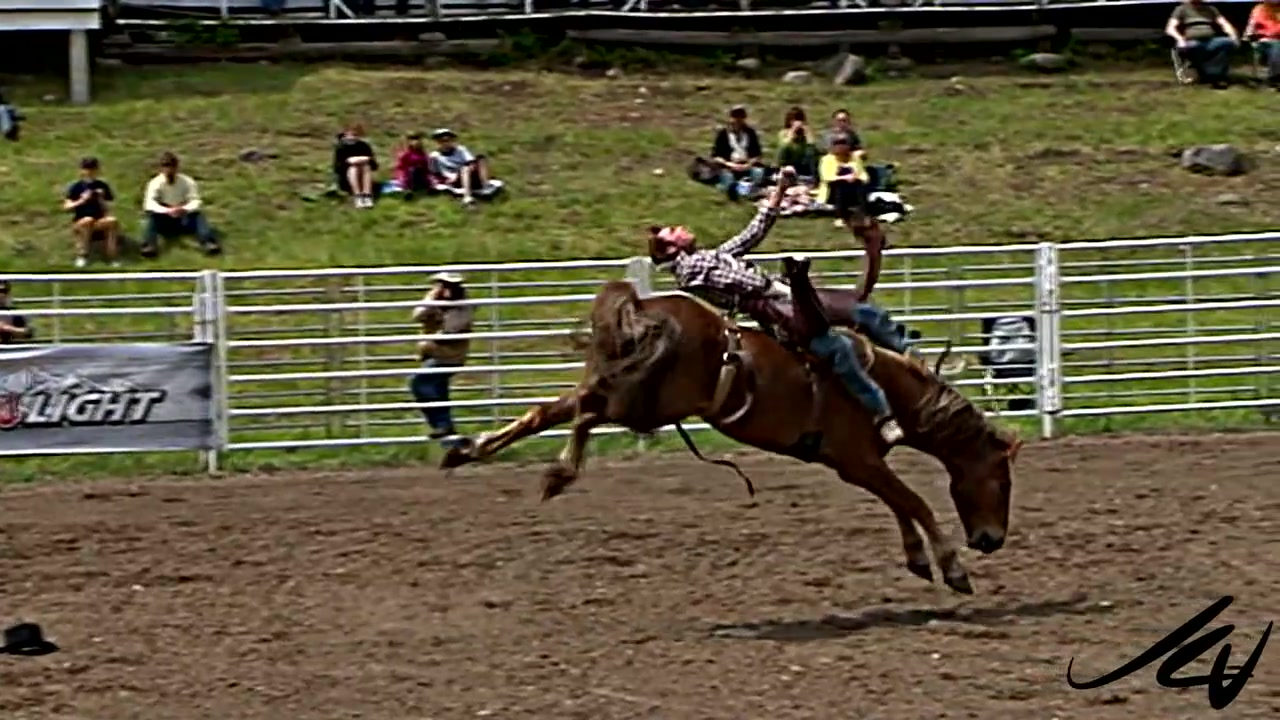horse: (438, 279, 1021, 597)
